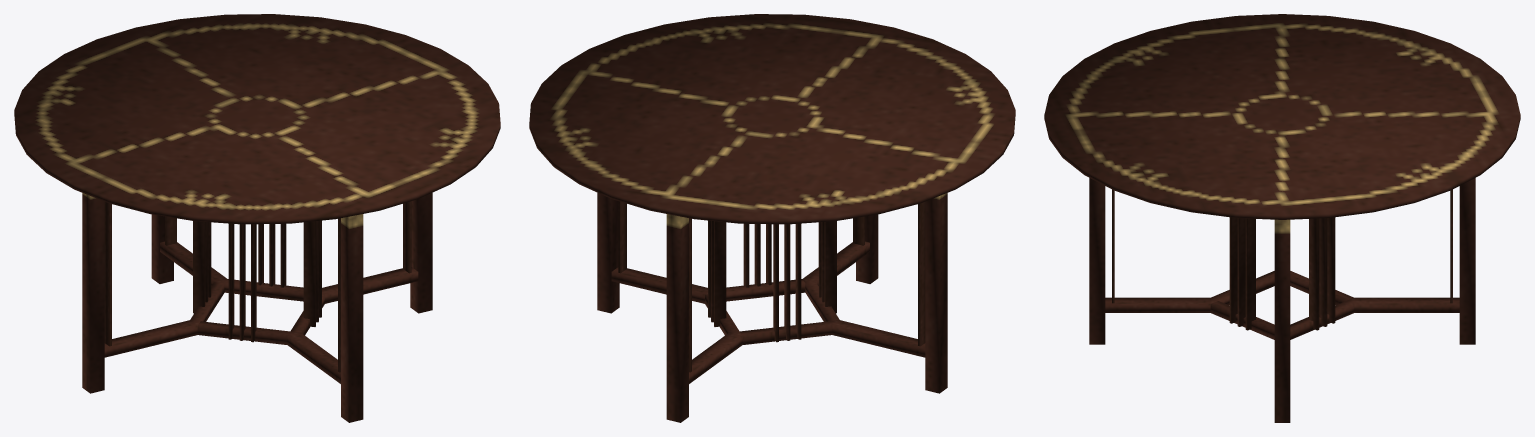
Rendered from CircleTable.fbx.
3 views of the same model, side by side, from view 1: azimuth 30°, elevation 25°; view 2: azimuth 150°, elevation 25°; view 3: azimuth 270°, elevation 25° (orthographic). The views are drawn at different scales.
Parts seen in each view (by area): view 1: Table_Low; view 2: Table_Low; view 3: Table_Low.
Boxes of the visible parts, x1,y1,x2,y2 form: Table_Low: (14, 14, 500, 422); Table_Low: (529, 14, 1015, 422); Table_Low: (1044, 14, 1520, 422).
Size of the model in its own units: 200 by 105 by 200.
1 material, 1 textured.
